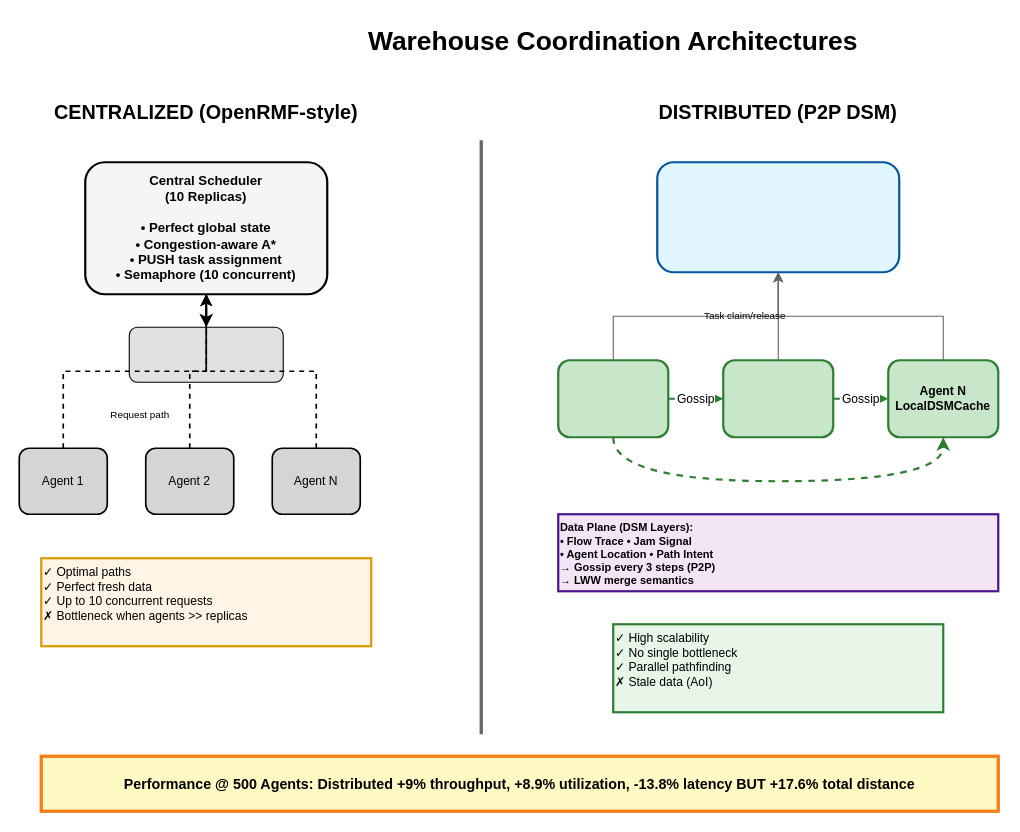
Some shapes in this 1020 by 832 pixel diagram are drawn without their labels. Here are the shapes that lost their labels. From the top down, the centre of each, then its label:
At [778,217]: "Coordinator (Control Plane) • Task Registry • Lease Manager • JIT Locks".
At [205,354]: "Coordinator (Task Registry)".
At [613,398]: "Agent 1 LocalDSMCache".
At [778,398]: "Agent 2 LocalDSMCache".
